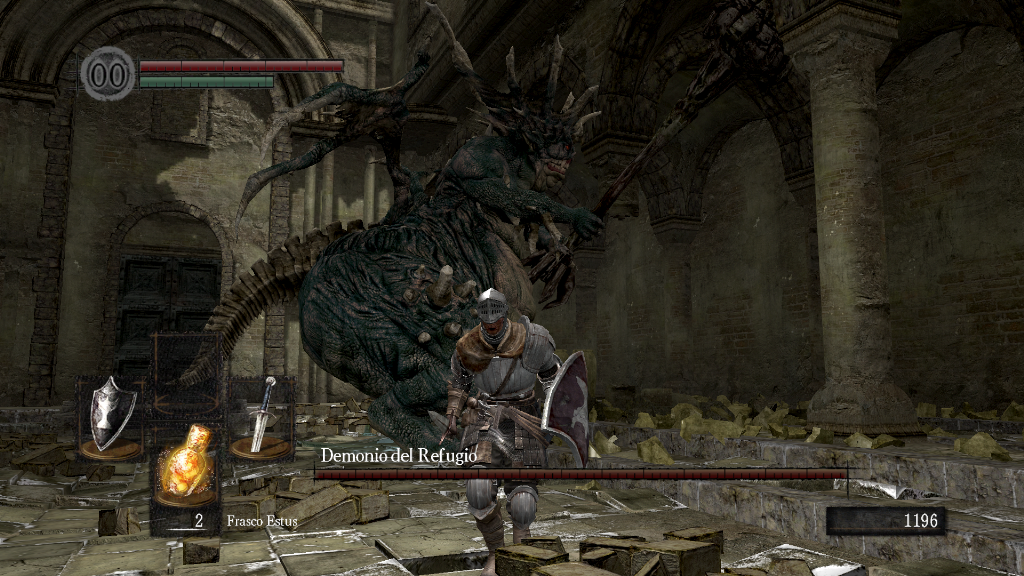asylumDemon: (157, 3, 608, 473)
bossHP: (314, 469, 847, 479)
health: (138, 58, 343, 71)
humanity: (80, 45, 136, 102)
player: (424, 285, 592, 576)
souls: (825, 506, 945, 536)
stamina: (138, 74, 274, 88)
